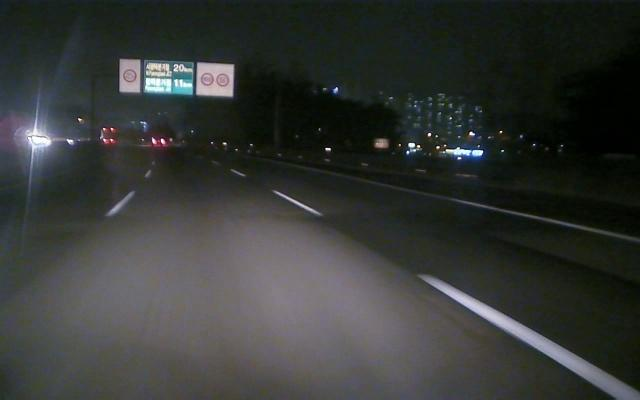lane: (268, 185, 632, 398), (428, 191, 639, 243), (36, 192, 135, 271)
